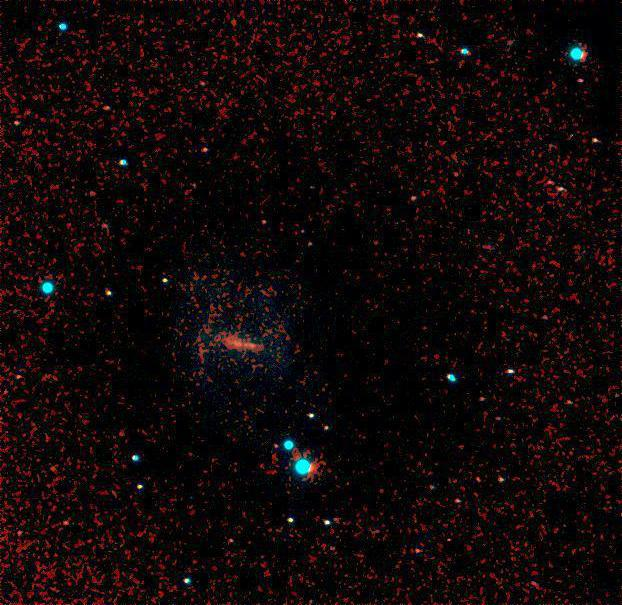star: (0, 376, 20, 406)
